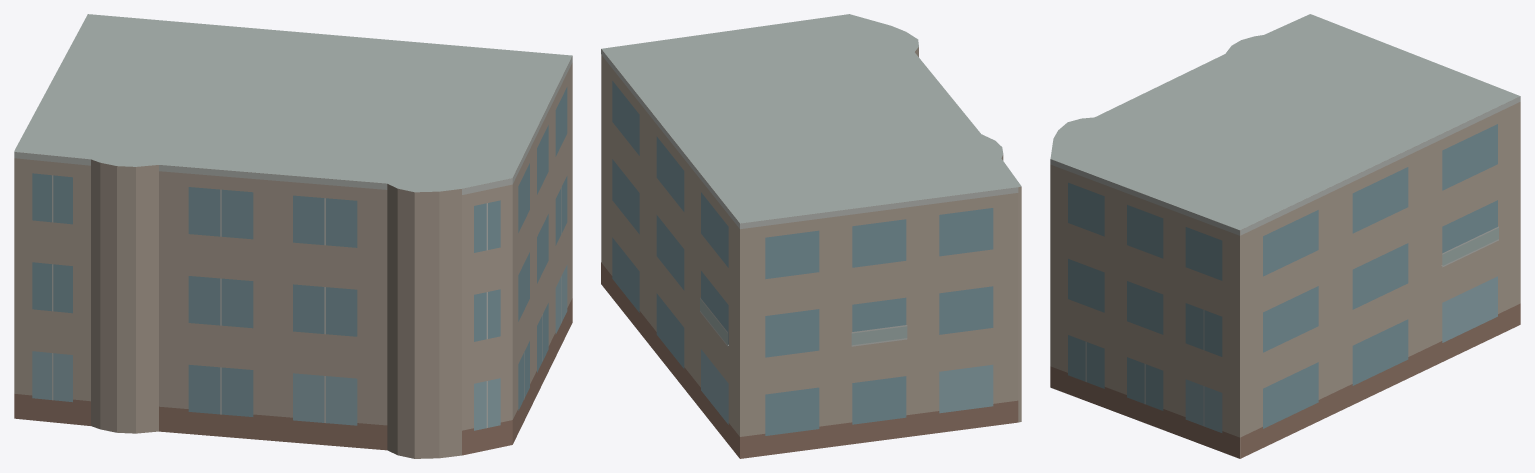
File: survey-upis-32968549.glb
3 views of the same model, side by side, from view 1: azimuth 30°, elevation 25°; view 2: azimuth 150°, elevation 25°; view 3: azimuth 270°, elevation 25° (orthographic). The views are drawn at different scales.
Parts seen in each view (by area): view 1: survey-upis-32968549.tmp; view 2: survey-upis-32968549.tmp; view 3: survey-upis-32968549.tmp.
Part boxes in pixels (x1,y1,x2,y2): survey-upis-32968549.tmp: [14, 14, 572, 458]; survey-upis-32968549.tmp: [601, 14, 1021, 458]; survey-upis-32968549.tmp: [1050, 14, 1520, 458].
Bounding box in the file's own units: 20.72 × 10.2 × 19.03.
